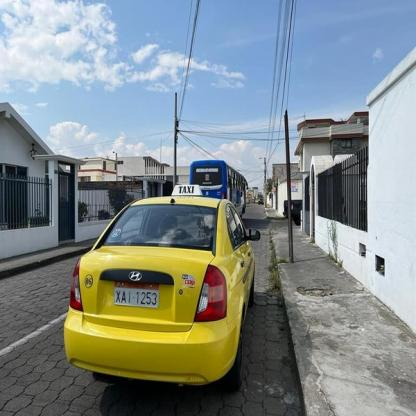Placa: (107, 280, 163, 309)
